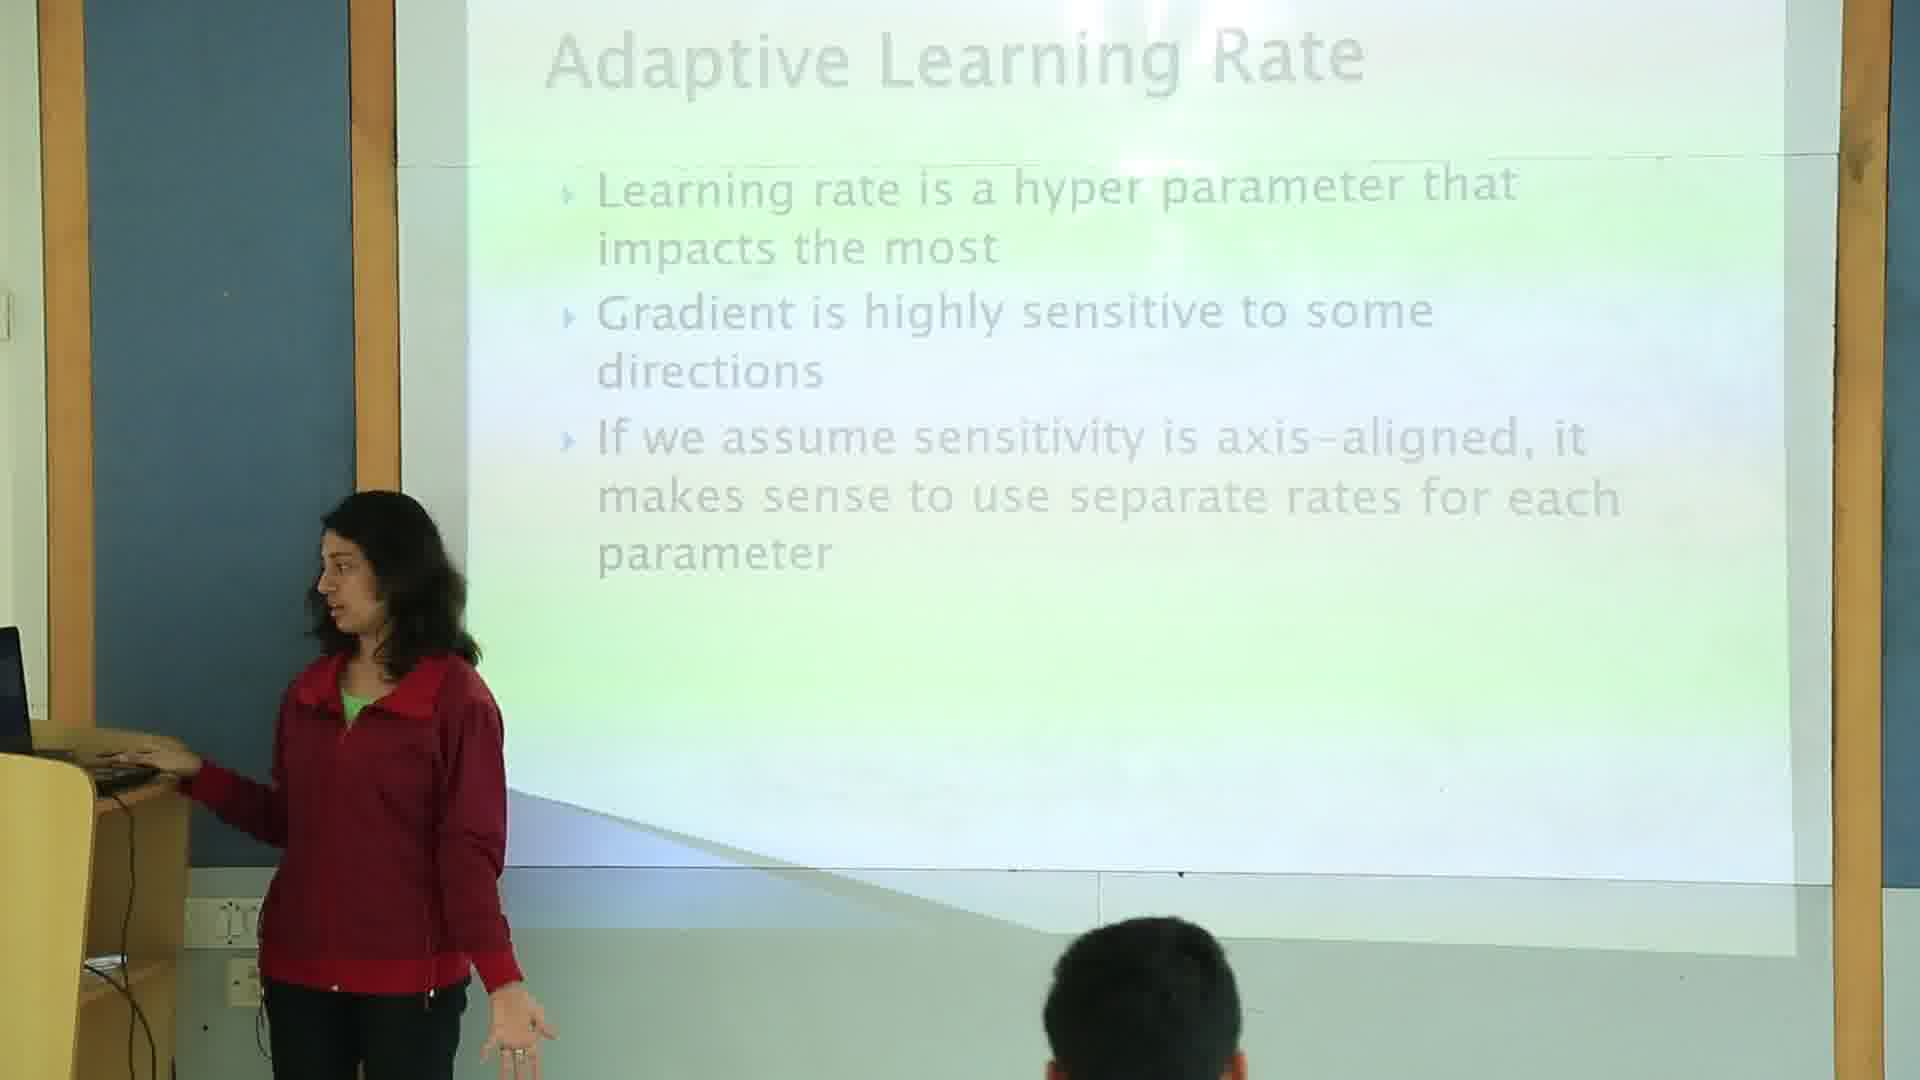slide: (464, 3, 1800, 953)
